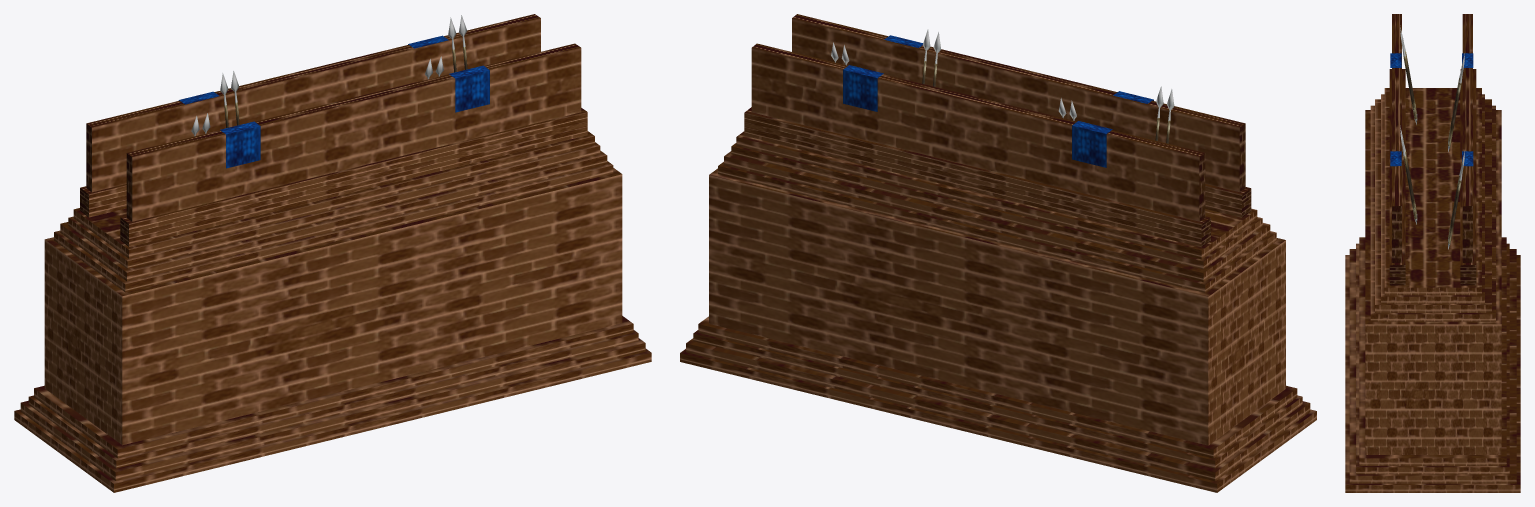
File: wall_long.dae
3 renders of one model, left to right at view 1: azimuth 30°, elevation 25°; view 2: azimuth 150°, elevation 25°; view 3: azimuth 270°, elevation 25°, orthographic. The views are drawn at different scales.
Visible parts, largest first — view 1: wall_long; view 2: wall_long; view 3: wall_long.
Boxes of the visible parts, <box> form: wall_long: <box>14,14,651,492</box>; wall_long: <box>680,14,1316,492</box>; wall_long: <box>1345,14,1520,492</box>.
Bounding box in the file's own units: 25.85 × 8.31 × 15.03.
